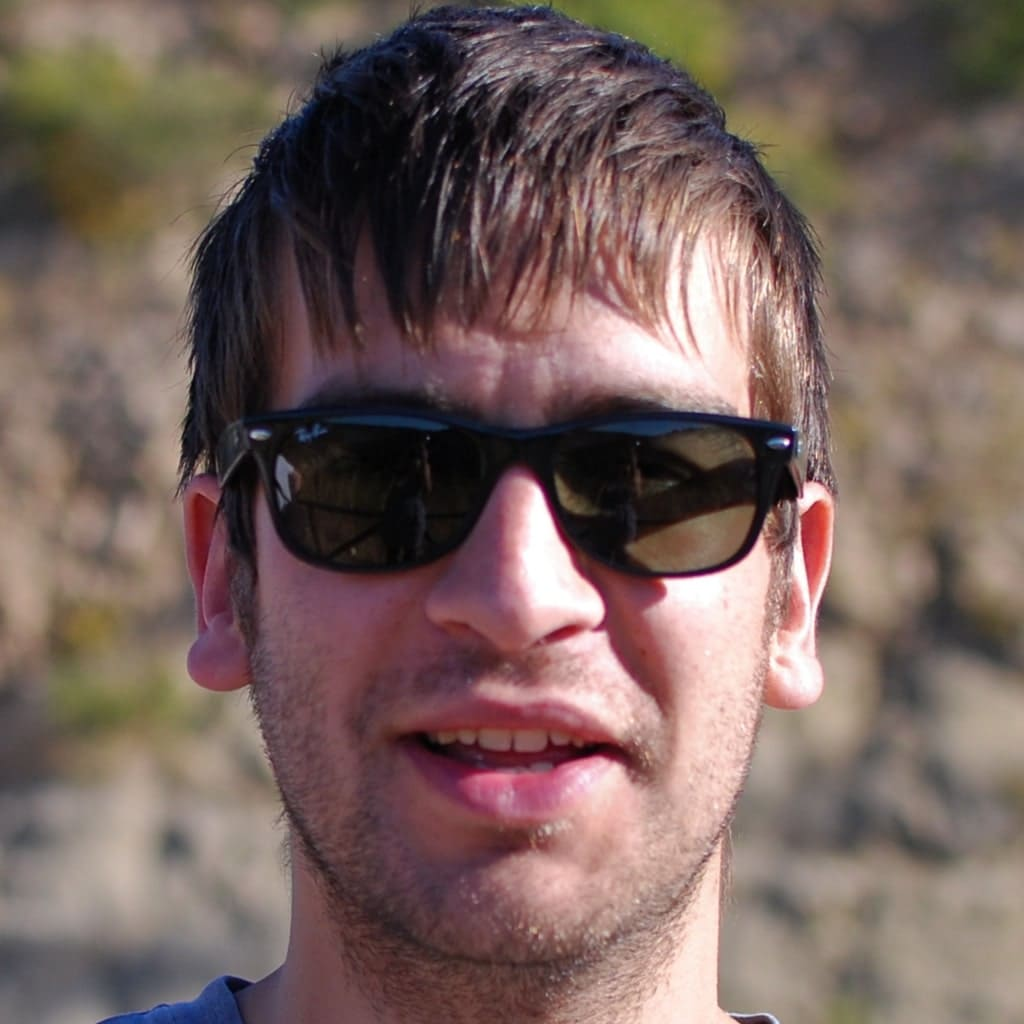without_mask: (233, 338, 771, 865)
